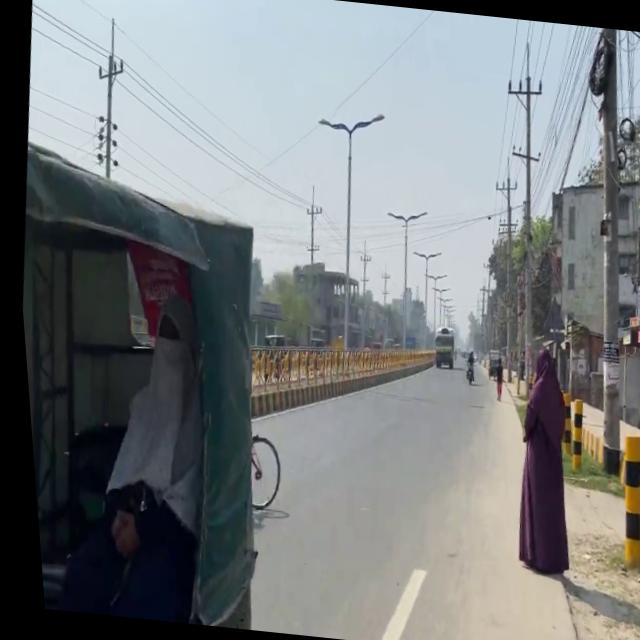Fallen-tree: (623, 444, 640, 536), (456, 356, 471, 384)
Garbage-bin: (494, 344, 582, 575)
Light-pole: (551, 28, 640, 474)
Traffic-cone: (8, 139, 292, 628), (424, 324, 451, 368)
